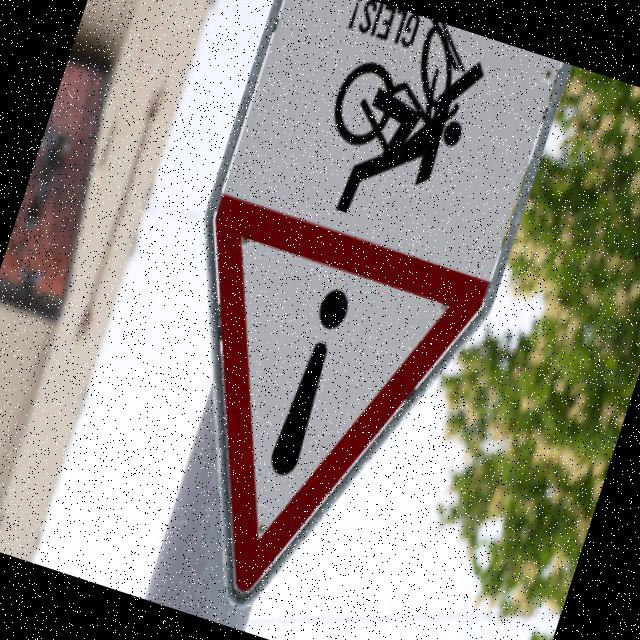warning: (90, 175, 504, 640)
